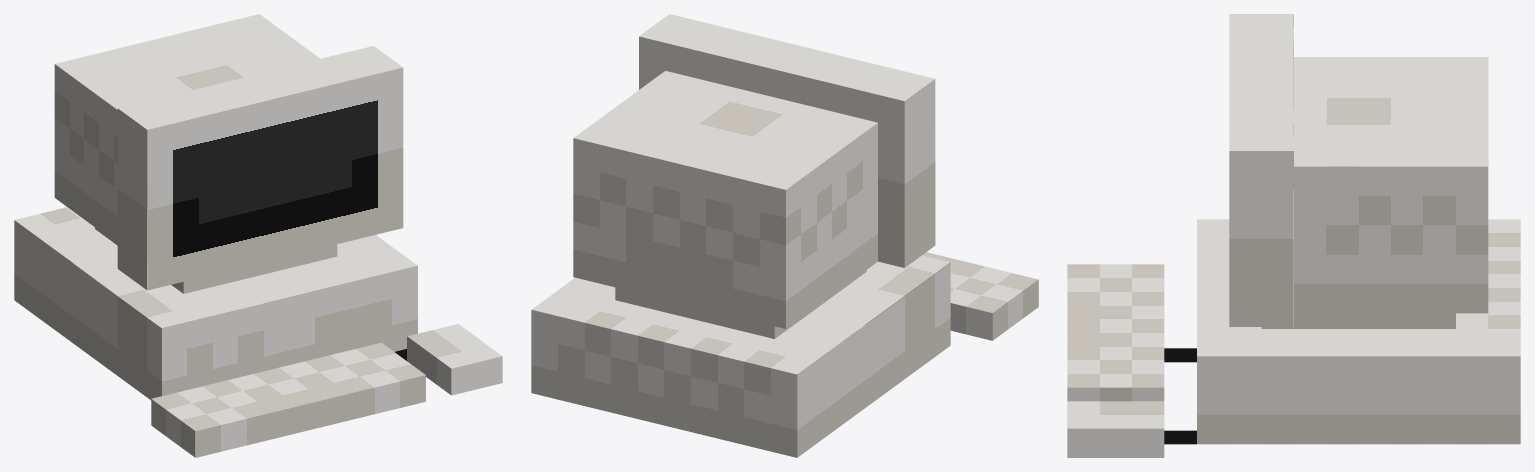
Rendered from computer.gltf.
The picture shows the model from 3 angles, left to right: view 1: azimuth 30°, elevation 25°; view 2: azimuth 150°, elevation 25°; view 3: azimuth 270°, elevation 25°; orthographic projection. The views are drawn at different scales.
Parts seen in each view (by area): view 1: screen_0, computer_3, moniter_1, keyboard_4, mouse_5, stand_2; view 2: moniter_1, computer_3, screen_0, keyboard_4, stand_2; view 3: moniter_1, computer_3, screen_0, keyboard_4, mouse_5, stand_2, wire_6, wire_7.
Boxes of the visible parts, box(x1,y1,x2,y2) form: screen_0: box(117, 46, 403, 290); computer_3: box(14, 207, 417, 400); moniter_1: box(54, 14, 320, 243); keyboard_4: box(151, 342, 425, 457); mouse_5: box(407, 324, 502, 395); stand_2: box(95, 227, 337, 293); moniter_1: box(573, 71, 877, 328); computer_3: box(531, 255, 950, 457); screen_0: box(639, 14, 935, 267); keyboard_4: box(922, 252, 1038, 340); stand_2: box(615, 270, 866, 338); moniter_1: box(1294, 57, 1488, 313); computer_3: box(1197, 219, 1520, 444); screen_0: box(1229, 14, 1293, 326); keyboard_4: box(1067, 264, 1164, 401); mouse_5: box(1067, 401, 1164, 457); stand_2: box(1261, 313, 1455, 328); wire_6: box(1164, 348, 1196, 362); wire_7: box(1164, 430, 1196, 444).
Bounding box in the file's own units: 0.75 × 0.6249 × 0.875.
1 material, 1 textured.
